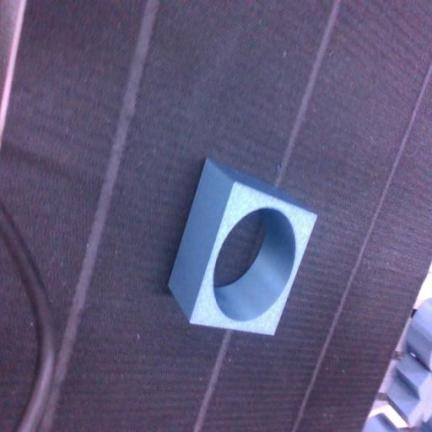hole: (169, 160, 316, 334)
